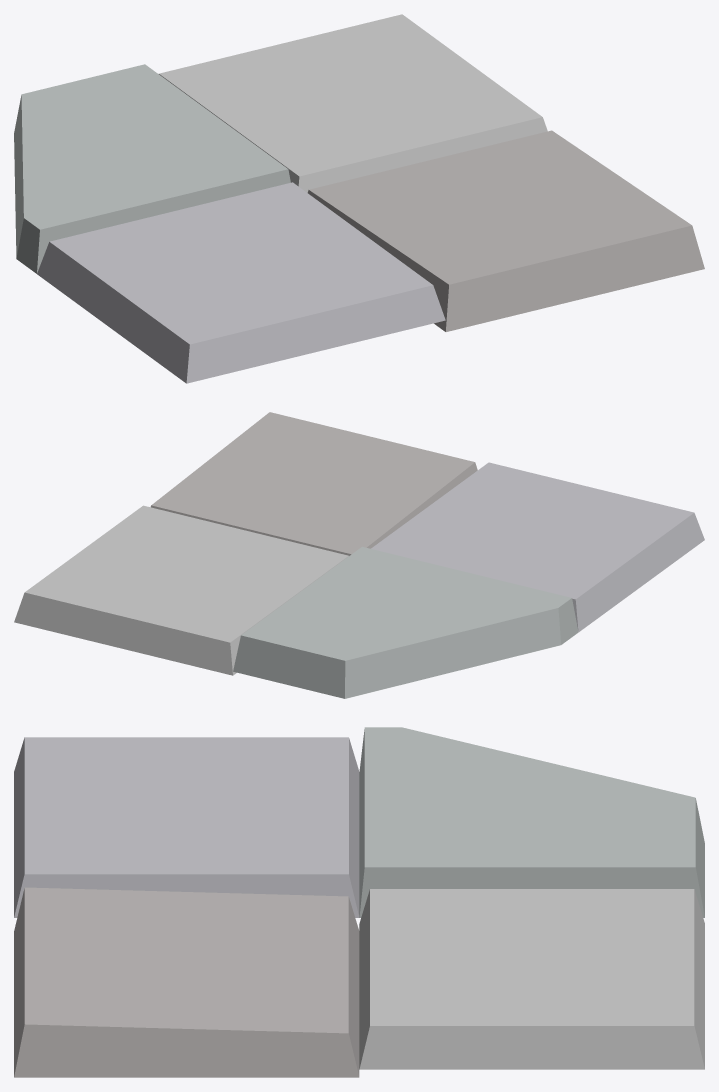
The model's file is Rock_Tiles_m_04.fbx.
The picture shows the model from 3 angles, top to bottom: view 1: azimuth 30°, elevation 25°; view 2: azimuth 150°, elevation 25°; view 3: azimuth 270°, elevation 25°; orthographic projection. The views are drawn at different scales.
Parts seen in each view (by area): view 1: Rock_Tiles_m_04; view 2: Rock_Tiles_m_04; view 3: Rock_Tiles_m_04.
Part boxes in pixels (x1=…): Rock_Tiles_m_04: x1=14, y1=14, x2=704, y2=383; Rock_Tiles_m_04: x1=14, y1=412, x2=704, y2=698; Rock_Tiles_m_04: x1=14, y1=727, x2=704, y2=1077.
Bounding box in the file's own units: 80 × 7.85 × 80.
